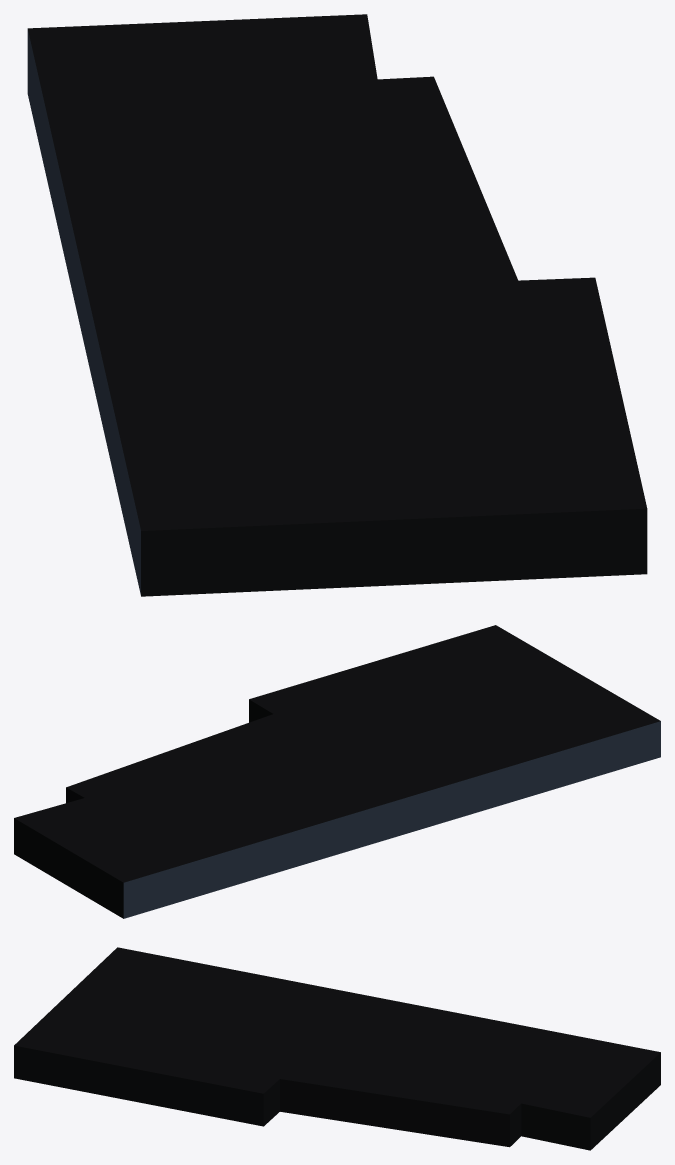
File: building-in-chattanooga-tn-usa-525fd43c.glb
3 views of the same model, one above another, from view 1: azimuth 30°, elevation 25°; view 2: azimuth 150°, elevation 25°; view 3: azimuth 270°, elevation 25° (orthographic). The views are drawn at different scales.
Visible parts, largest first — view 1: LOD0; view 2: LOD0; view 3: LOD0.
Part boxes in pixels (x1,y1,x2,y2): LOD0: [27, 14, 647, 596]; LOD0: [14, 625, 660, 918]; LOD0: [14, 947, 660, 1150].
Size of what is drawn, in the model's own units: 57.7 by 5.17 by 92.49.
Materials: 1 (1 with a texture image).
